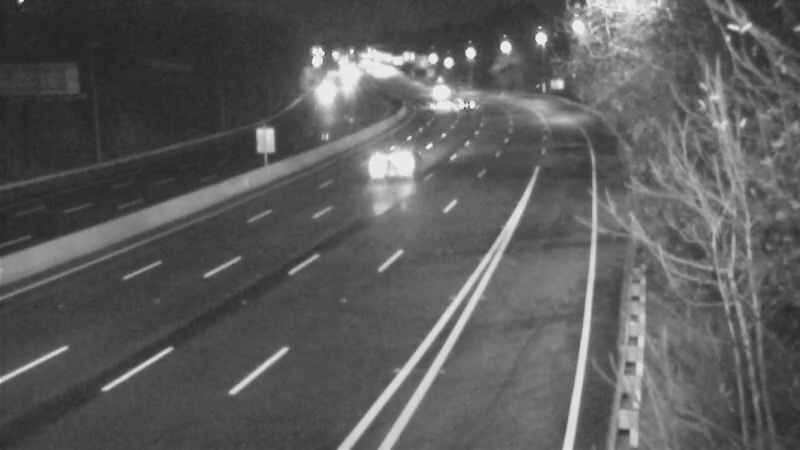vehicle: (365, 121, 445, 201), (406, 59, 456, 109), (417, 72, 467, 122), (448, 77, 498, 127), (296, 69, 346, 119)
